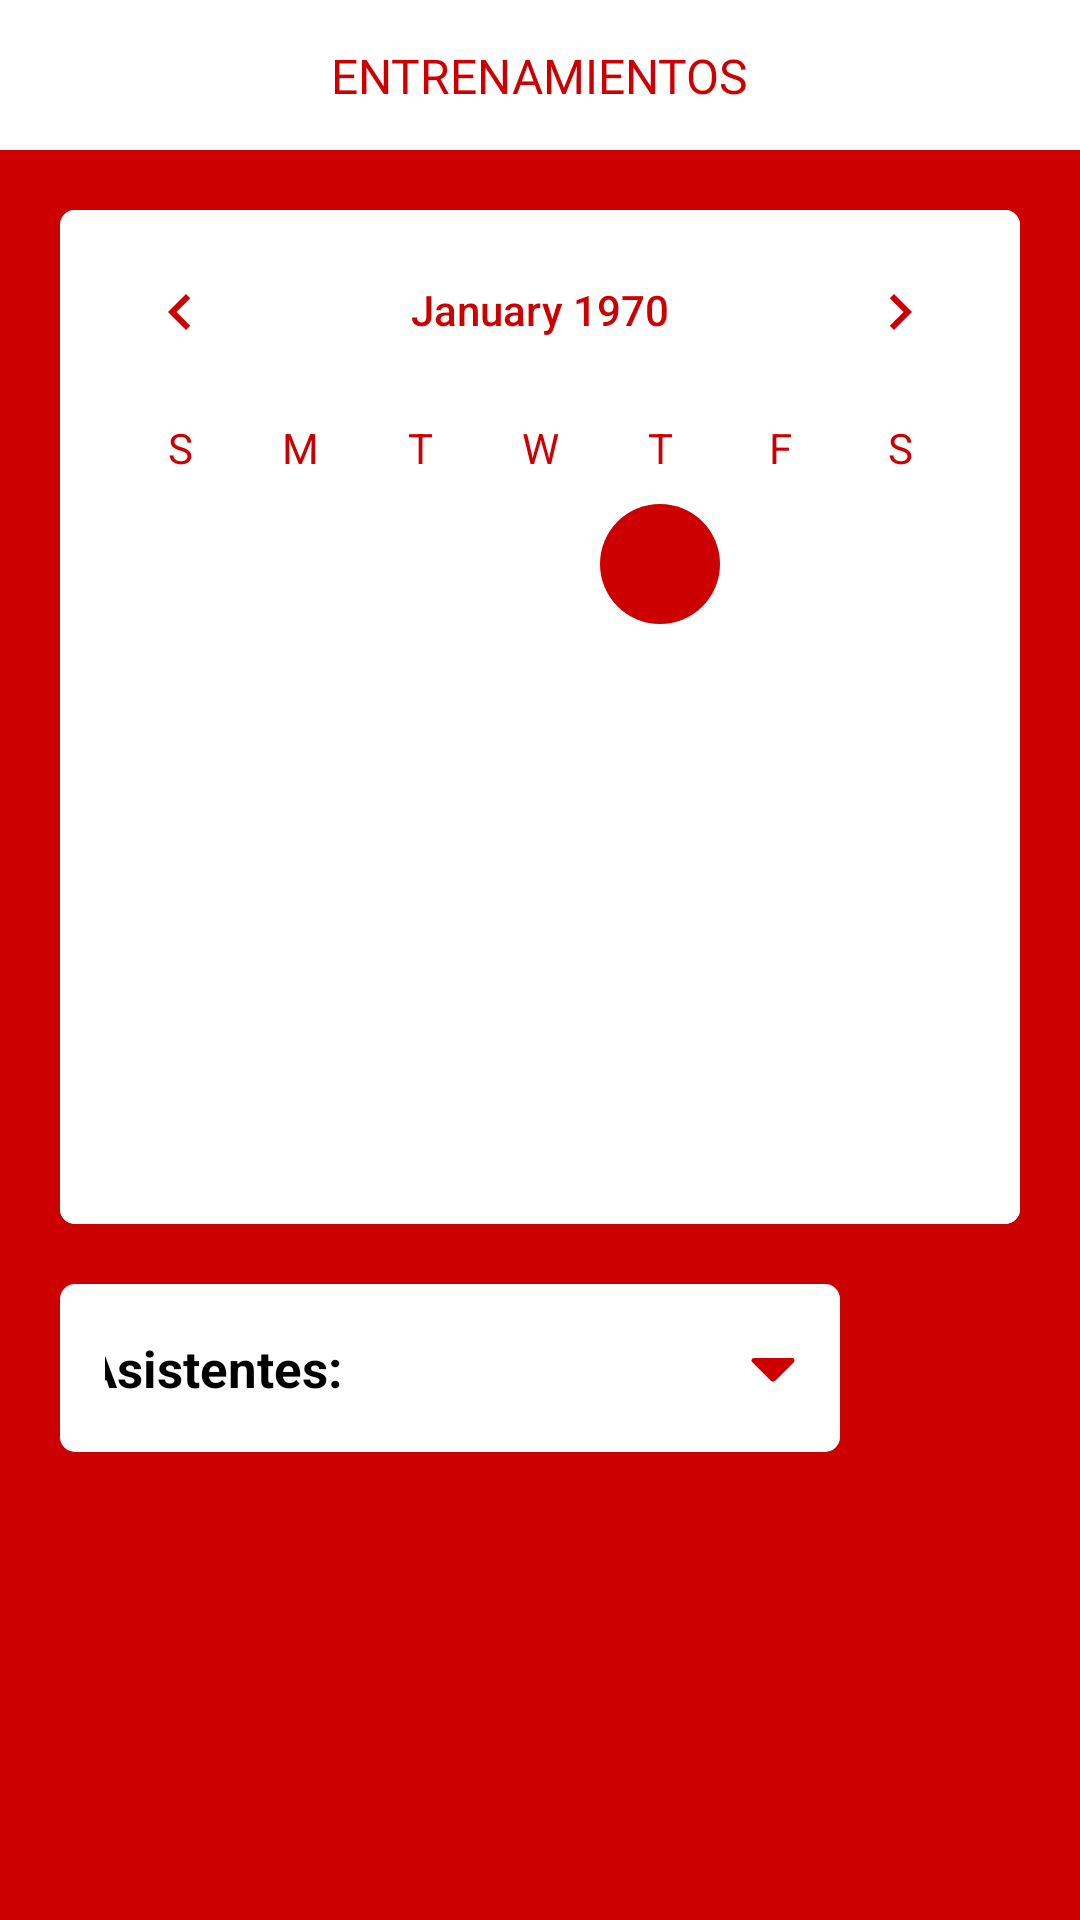

Named icons in this screenshot (1080x1920) and their bounding boxes, rect(x1, y1, x2, y2):
drop down: rect(751, 1358, 795, 1382)
